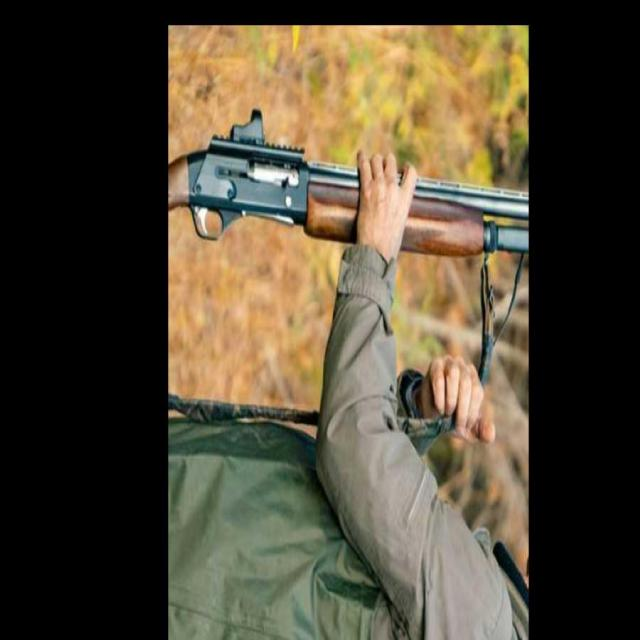heavy-weapon: (170, 110, 528, 260)
